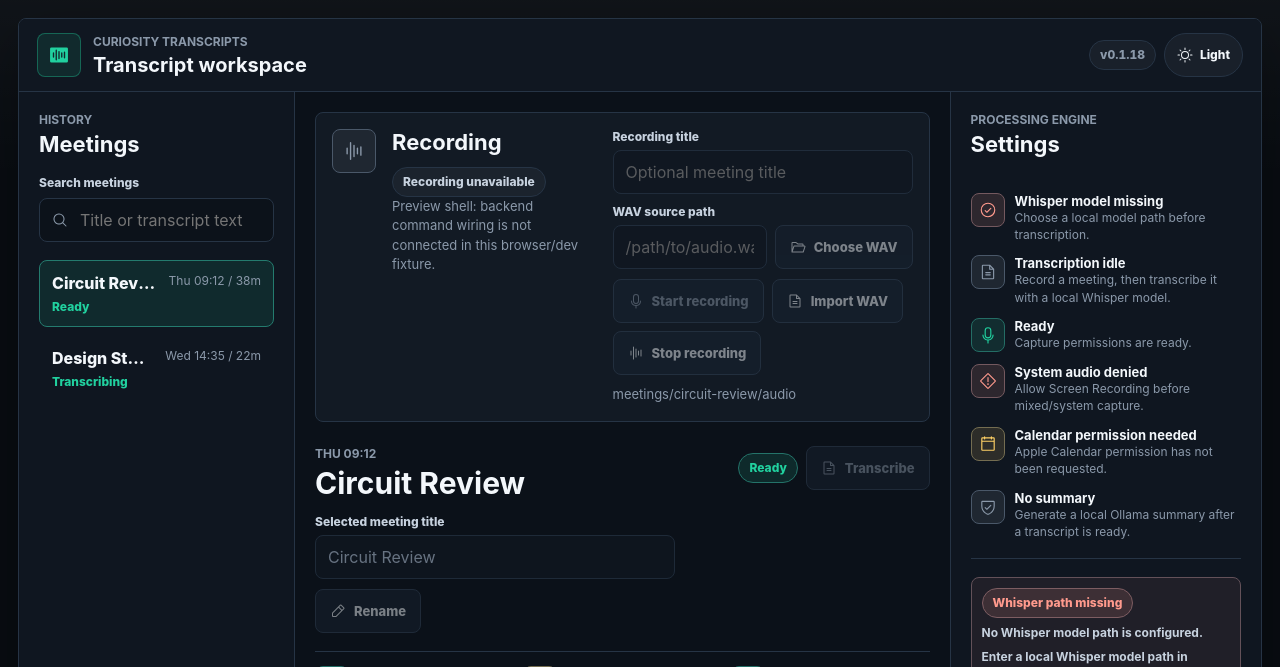
desktop workspace shell › updates meeting results from search input
The width and height of the screenshot is (1280, 667).
Type "standup" into the field labelled "Search meetings".
click(170, 220); type("standup")  # box [80, 210, 261, 230]
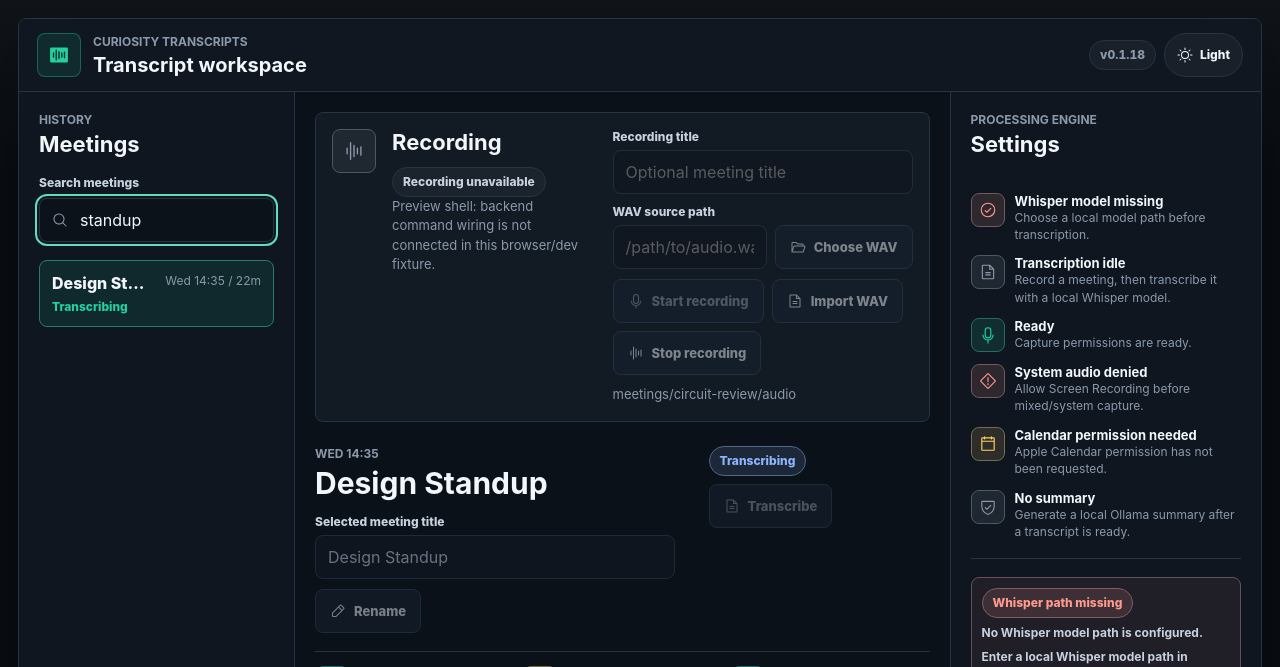
Expected: the text "Design Standup" is shown, [52, 272, 153, 292]
Result: the button "Circuit Review" is gone
